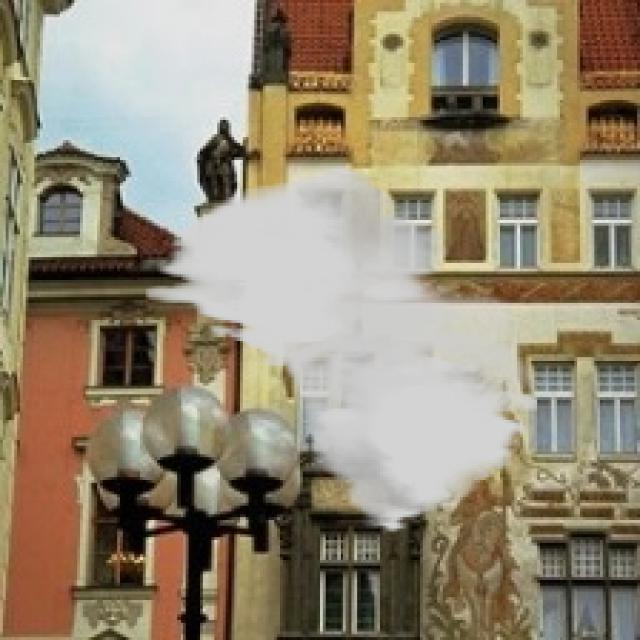smoke: (146, 166, 540, 534)
